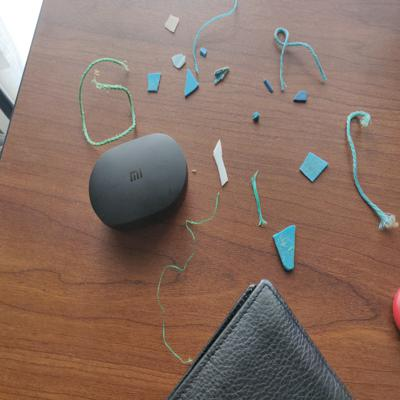plastic: (269, 224, 303, 273), (298, 148, 331, 186), (210, 137, 233, 186), (183, 69, 201, 102), (143, 68, 165, 95), (212, 65, 233, 88), (161, 14, 183, 35), (170, 52, 188, 71), (292, 89, 311, 107), (262, 80, 275, 95), (250, 110, 262, 125)
thread: (154, 188, 229, 369), (341, 108, 397, 239), (75, 53, 139, 153), (271, 20, 333, 93), (190, 1, 240, 82), (251, 165, 272, 229)
